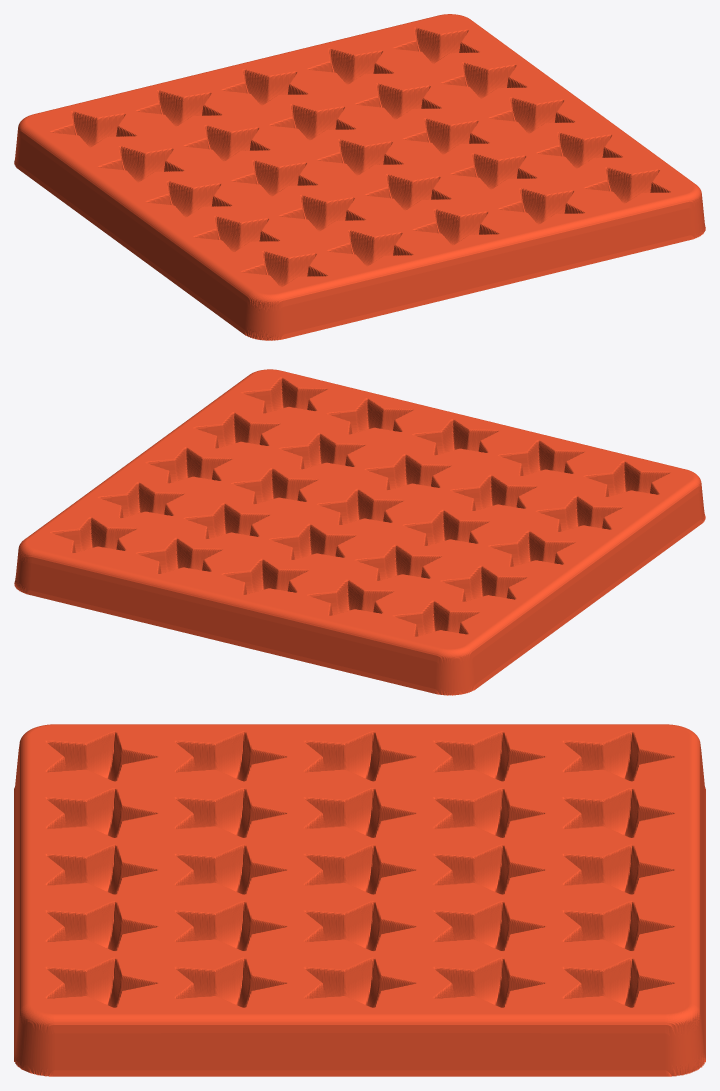
File: mold.glb
The picture shows the model from 3 angles, top to bottom: view 1: azimuth 30°, elevation 25°; view 2: azimuth 150°, elevation 25°; view 3: azimuth 270°, elevation 25°; orthographic projection. The views are drawn at different scales.
Visible parts, largest first — view 1: geometry_0; view 2: geometry_0; view 3: geometry_0.
Part boxes in pixels (x1,y1,x2,y2): geometry_0: [14, 14, 705, 340]; geometry_0: [14, 369, 705, 695]; geometry_0: [14, 724, 705, 1076].
Size of the model in its own units: 0.1584 by 0.0136 by 0.1532.
